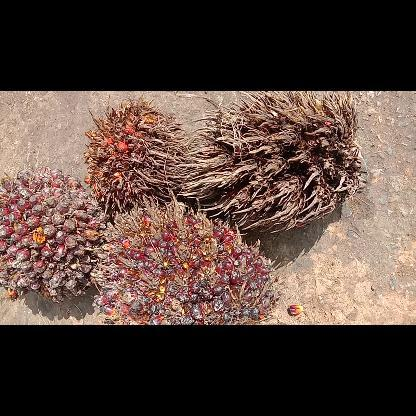Janjang kosong: (181, 92, 367, 235)
Kurang masak: (2, 166, 112, 304)
TBS masak: (93, 194, 281, 324)
Terlalu masak: (80, 94, 192, 214)
